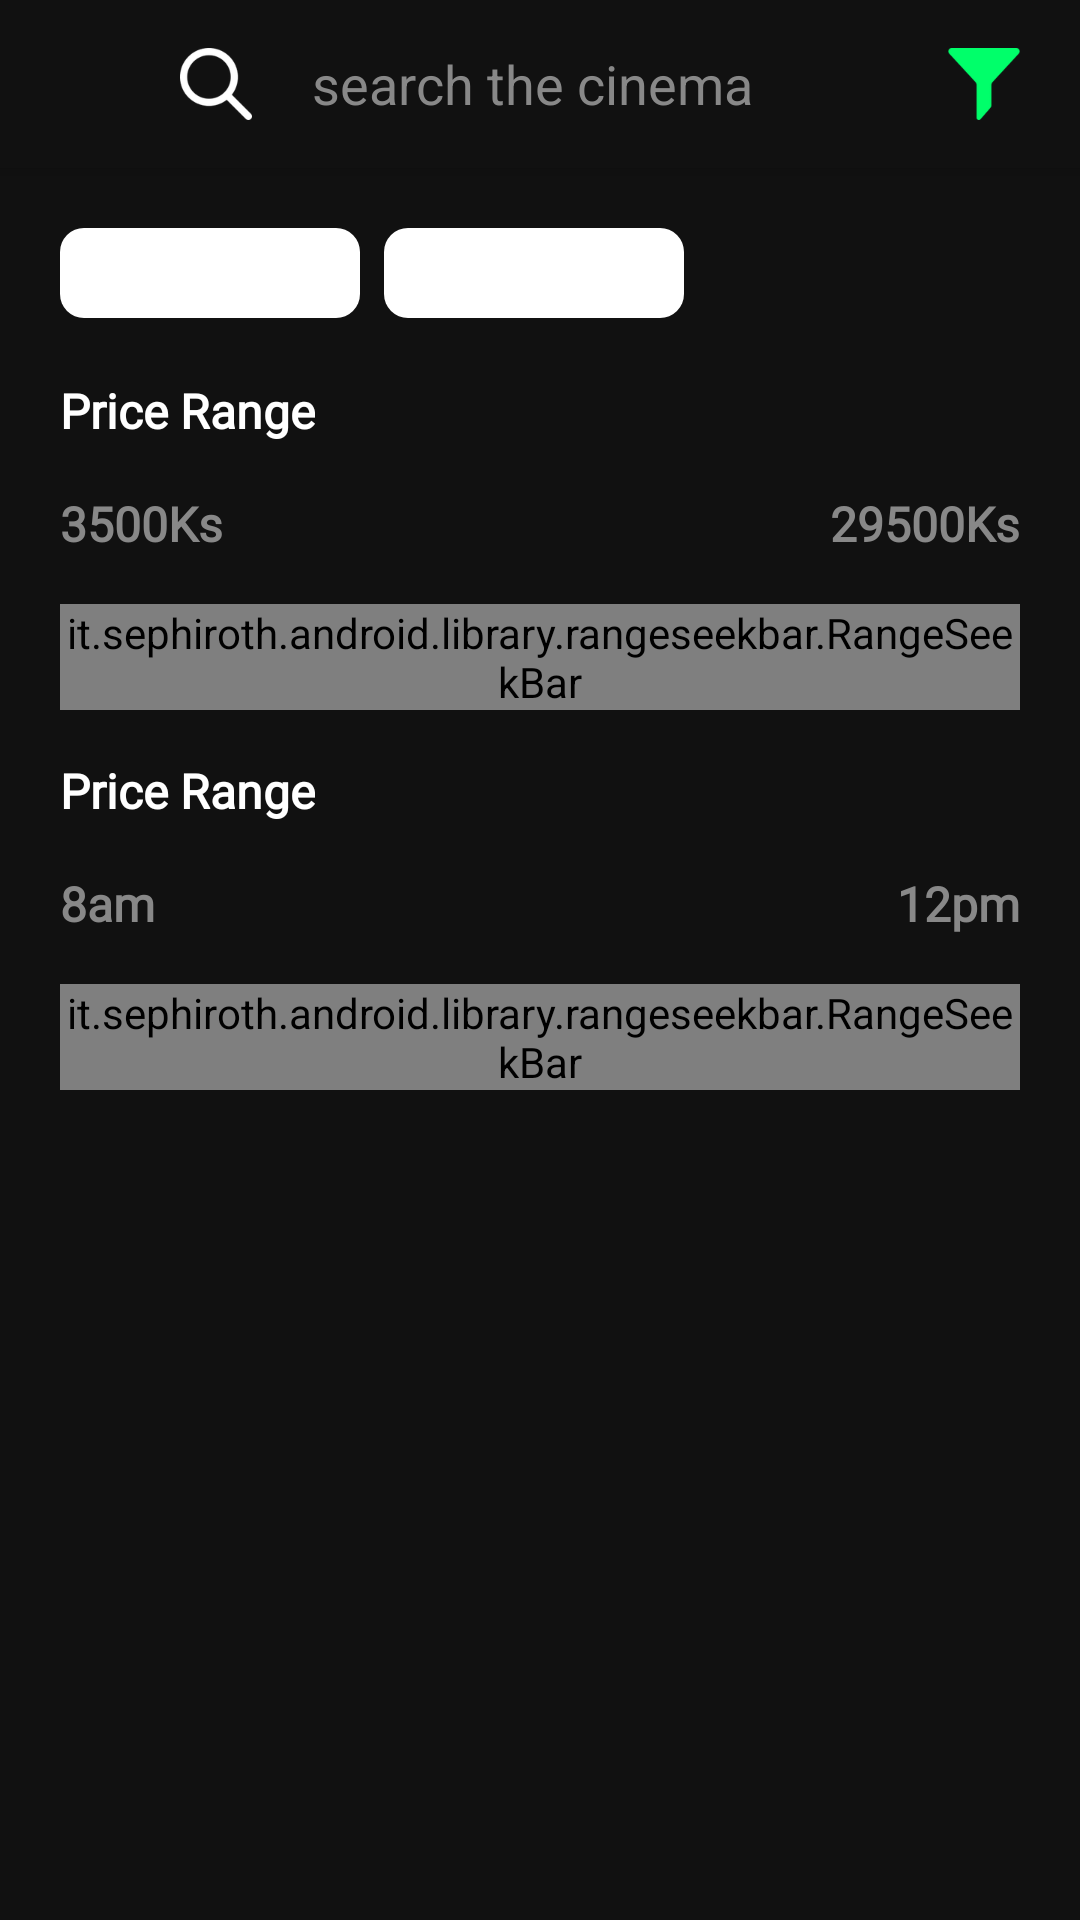

Icon click points for this 1080 × 1920 phone screenshot, format [x,y]:
filter: [984,84]
